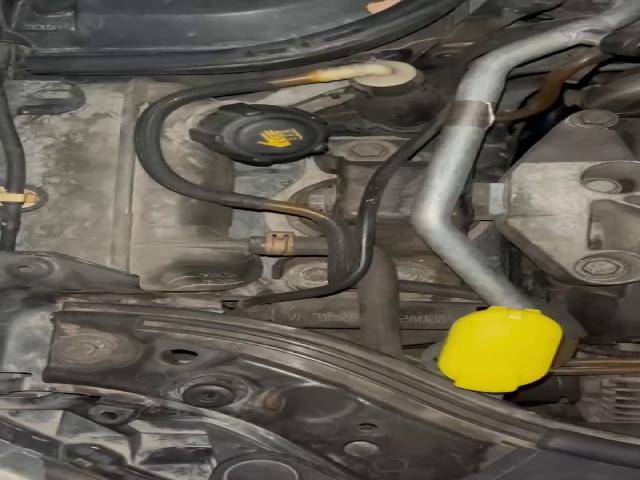antifreeze_tank: (15, 83, 258, 291), (161, 98, 327, 190)
